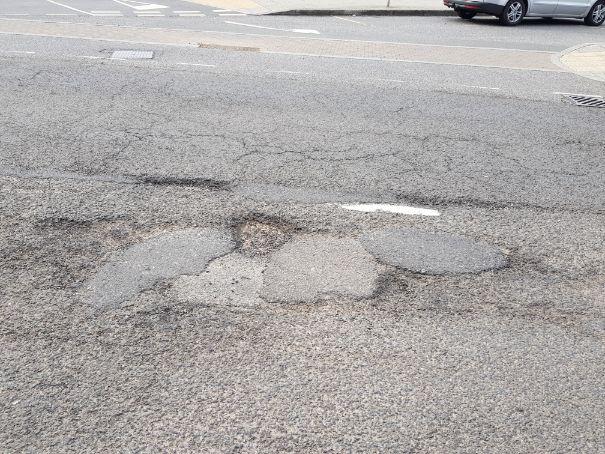pothole: (35, 208, 163, 254), (360, 262, 448, 312), (228, 210, 302, 258), (132, 171, 232, 195)
